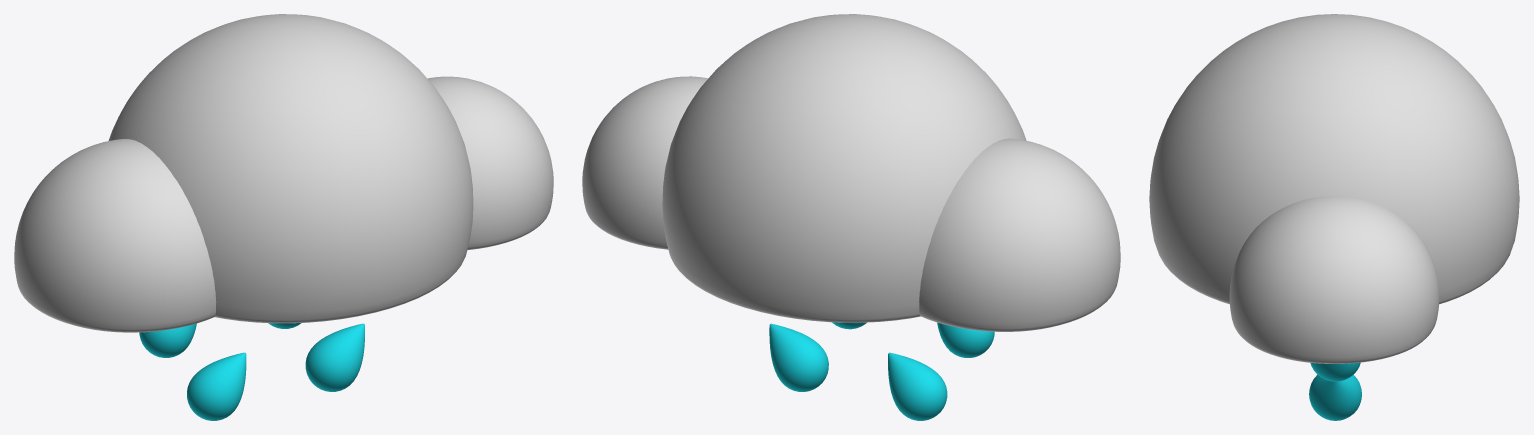
File: Cloud_with_Rain.gltf
3 renders of one model, left to right at view 1: azimuth 30°, elevation 25°; view 2: azimuth 150°, elevation 25°; view 3: azimuth 270°, elevation 25°, orthographic.
Visible parts, largest first — view 1: Cube.208, Sphere.410, Sphere.409, Sphere.405; view 2: Cube.208, Sphere.409, Sphere.410, Sphere.405; view 3: Cube.208, Sphere.409, Sphere.407.
Part boxes in pixels (box(x1,y1,x2,y2)): Cube.208: box(14, 14, 553, 332); Sphere.410: box(187, 352, 246, 420); Sphere.409: box(305, 323, 364, 391); Sphere.405: box(139, 323, 196, 357); Cube.208: box(582, 14, 1120, 331); Sphere.409: box(769, 323, 828, 391); Sphere.410: box(888, 352, 947, 420); Sphere.405: box(937, 322, 994, 357); Cube.208: box(1149, 14, 1519, 363); Sphere.409: box(1309, 374, 1361, 420); Sphere.407: box(1310, 362, 1360, 381).
Size of the model in its own units: 2.15 by 1.49 by 1.37.
